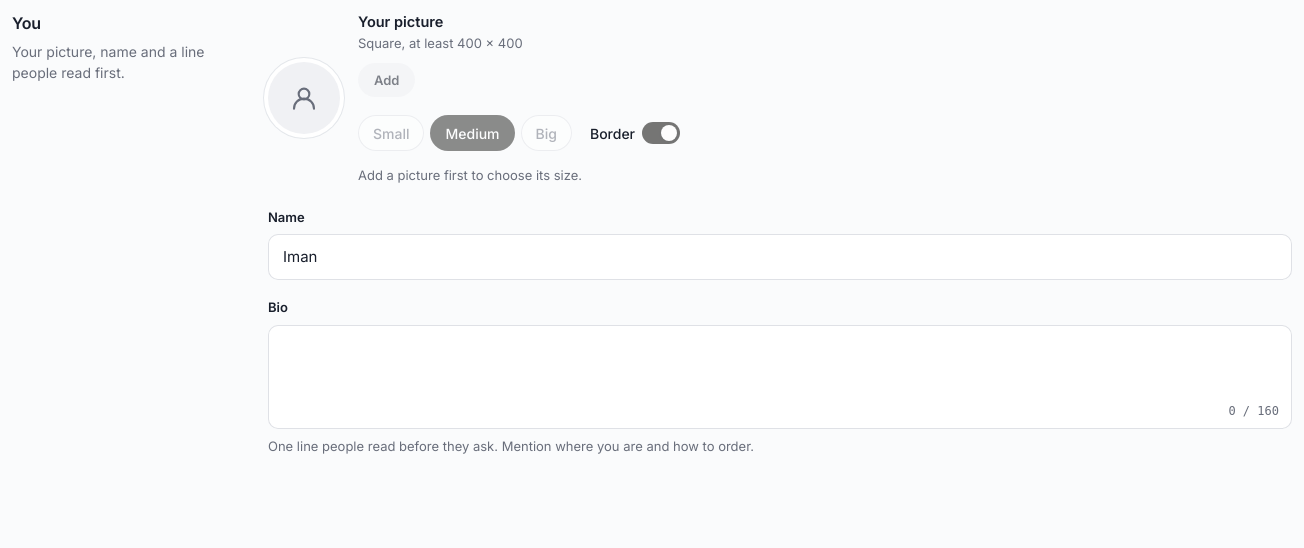
Test: ProfileEditor › shows the ApiError's own message instead of a generic one
The width and height of the screenshot is (1304, 548).
Type "!" into the field named "Display name". click: {"x": 780, "y": 257}
box: [268,234,1292,280]
Wait 600 ms
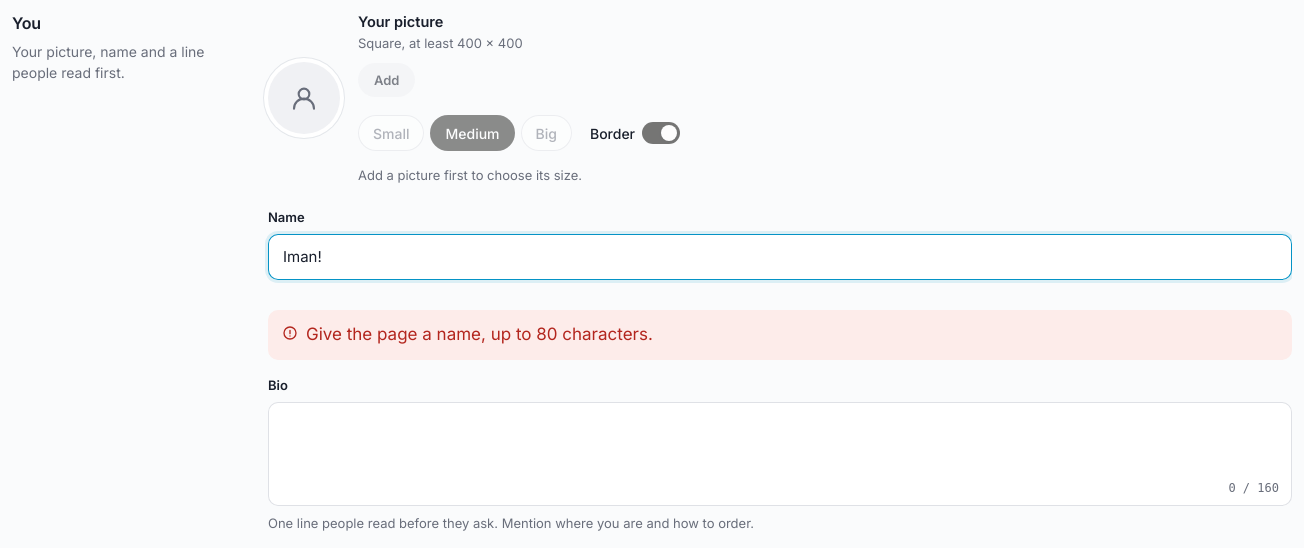
Expected: the message reads "Give the page a name, up to 80 characters.", [306,324,653,344]
